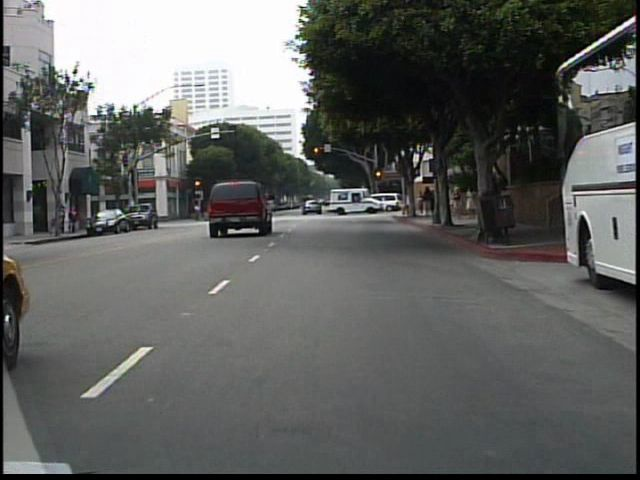person: (465, 181, 478, 222), (452, 183, 466, 221)
